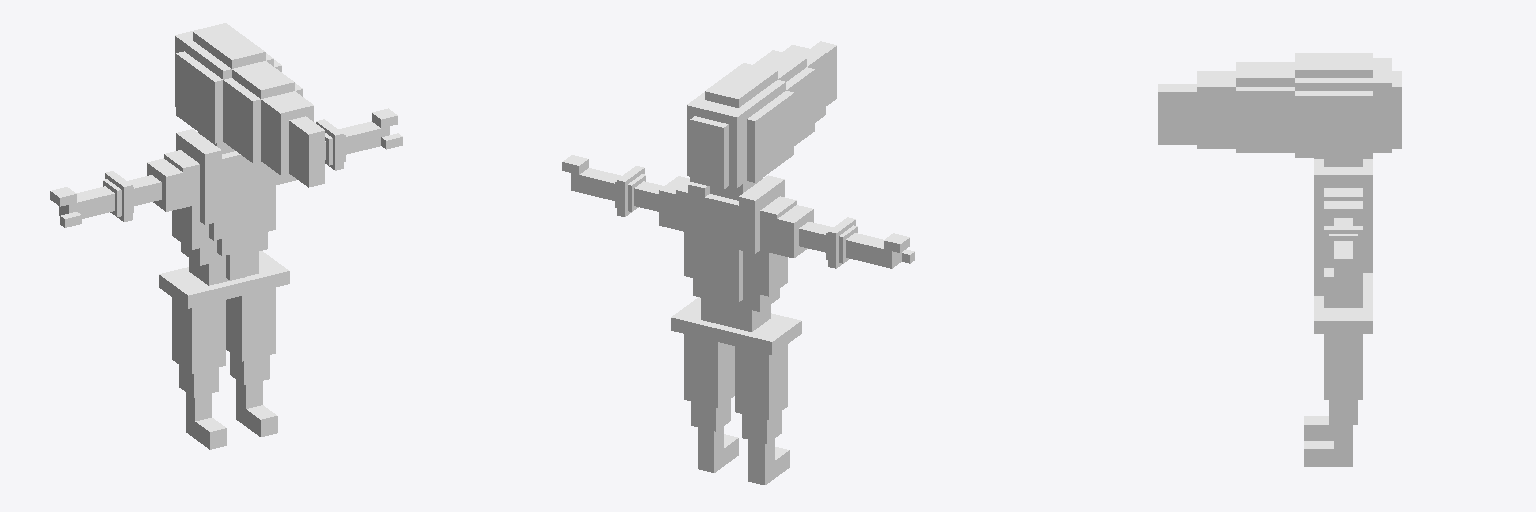
Rendered from czarodzi.obj.
3 views of the same model, side by side, from view 1: azimuth 30°, elevation 25°; view 2: azimuth 150°, elevation 25°; view 3: azimuth 270°, elevation 25° (orthographic).
Visible parts, largest first — view 1: object 1; view 2: object 1; view 3: object 1.
Boxes of the visible parts, <box> form: object 1: <box>50,23,402,449</box>; object 1: <box>562,41,914,484</box>; object 1: <box>1158,53,1401,466</box>.
Bounding box in the file's own units: 8 × 8.8 × 5.